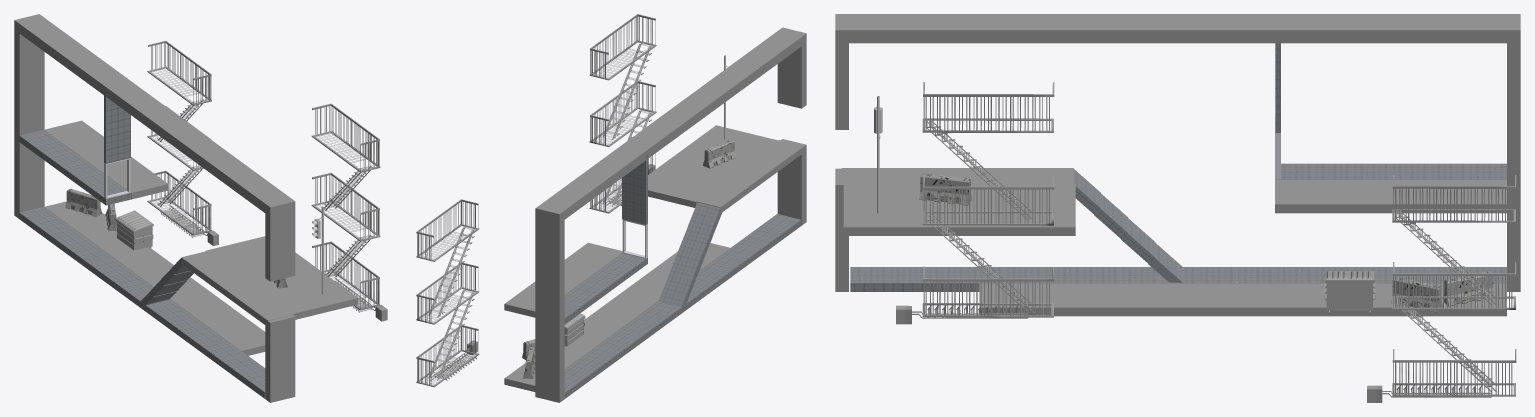
File: Stage1.fbx
The picture shows the model from 3 angles, left to right: view 1: azimuth 30°, elevation 25°; view 2: azimuth 150°, elevation 25°; view 3: azimuth 270°, elevation 25°; orthographic projection. The views are drawn at different scales.
Visible parts, largest first — view 1: stage1_backasset, polySurface4, floor_def132, polySurface3, polySurface20, floor_def131, floor_def, floor_def144, floor_def123, BIN, wall17, Barrel_yellow (+19 smaller); view 2: stage1_backasset, polySurface4, polySurface3, floor_def131, floor_def132, polySurface20, floor_def144, floor_def123, floor_def, polySurface61, polySurface59, polySurface79 (+18 smaller); view 3: stage1_backasset, polySurface4, floor_def132, floor_def131, floor_def, floor_def123, polySurface3, floor_def144, polySurface20, BIN, Barrel_yellow2, Barrel_yellow1 (+14 smaller).
Part boxes in pixels (bbox=[...]): stage1_backasset: bbox=[147, 40, 387, 321]; polySurface4: bbox=[19, 18, 290, 213]; floor_def132: bbox=[45, 201, 265, 355]; polySurface3: bbox=[14, 14, 44, 218]; polySurface20: bbox=[265, 197, 295, 402]; floor_def131: bbox=[206, 236, 357, 319]; floor_def: bbox=[45, 120, 168, 199]; floor_def144: bbox=[181, 251, 293, 324]; floor_def123: bbox=[19, 129, 130, 205]; BIN: bbox=[115, 210, 153, 250]; wall17: bbox=[104, 131, 130, 163]; Barrel_yellow: bbox=[65, 188, 101, 217]; stage1_backasset: bbox=[416, 14, 656, 387]; polySurface4: bbox=[541, 30, 802, 219]; polySurface3: bbox=[535, 204, 564, 402]; floor_def131: bbox=[648, 125, 778, 207]; floor_def132: bbox=[504, 243, 729, 391]; polySurface20: bbox=[777, 27, 806, 225]; floor_def144: bbox=[696, 140, 804, 213]; floor_def123: bbox=[564, 253, 647, 324]; floor_def: bbox=[504, 242, 622, 317]; polySurface61: bbox=[678, 227, 713, 259]; polySurface59: bbox=[668, 252, 703, 284]; polySurface79: bbox=[658, 277, 693, 308]; stage1_backasset: bbox=[896, 82, 1516, 402]; polySurface4: bbox=[846, 14, 1506, 43]; floor_def132: bbox=[979, 283, 1506, 316]; floor_def131: bbox=[843, 184, 1075, 235]; floor_def: bbox=[1275, 180, 1506, 213]; floor_def123: bbox=[1275, 163, 1506, 179]; polySurface3: bbox=[1507, 14, 1520, 291]; floor_def144: bbox=[841, 168, 1073, 193]; polySurface20: bbox=[835, 14, 848, 291]; BIN: bbox=[1324, 272, 1375, 310]; Barrel_yellow2: bbox=[919, 173, 971, 205]; Barrel_yellow1: bbox=[1391, 276, 1442, 312].
Bounding box in the file's own units: 1202 × 1744 × 3548.
